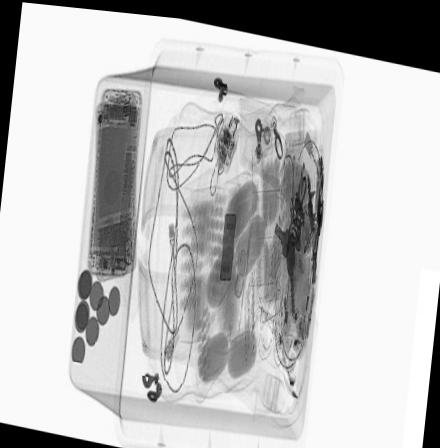Lighter: (295, 268, 314, 333)
